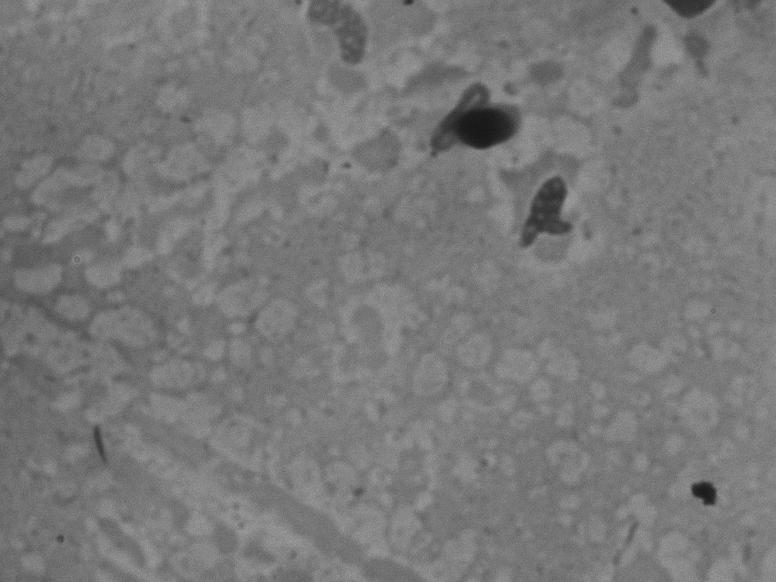Abnormal: (415, 61, 544, 172)
